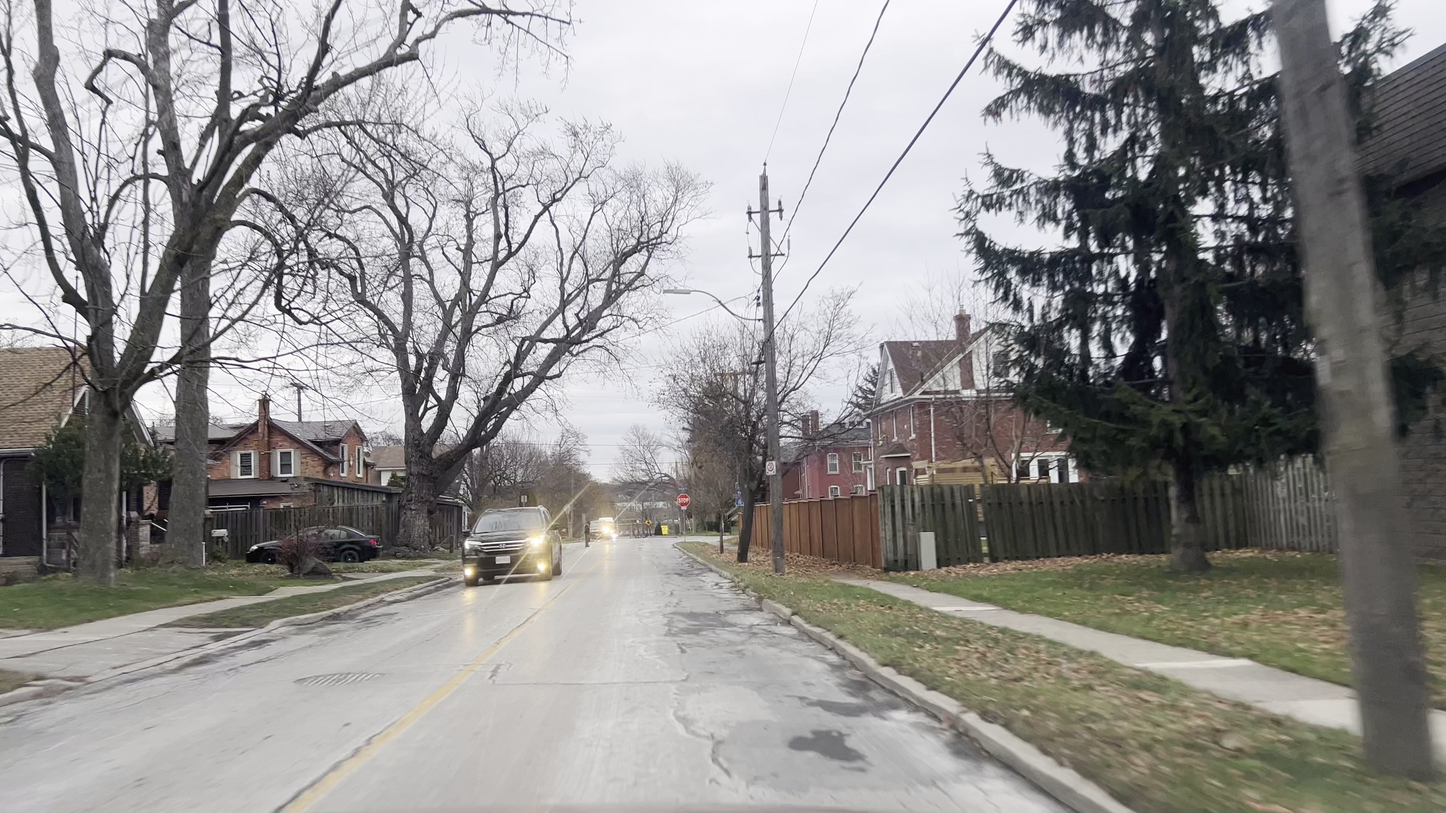cracks: (822, 692, 935, 761), (665, 602, 747, 647), (296, 744, 363, 796), (695, 733, 760, 786)
